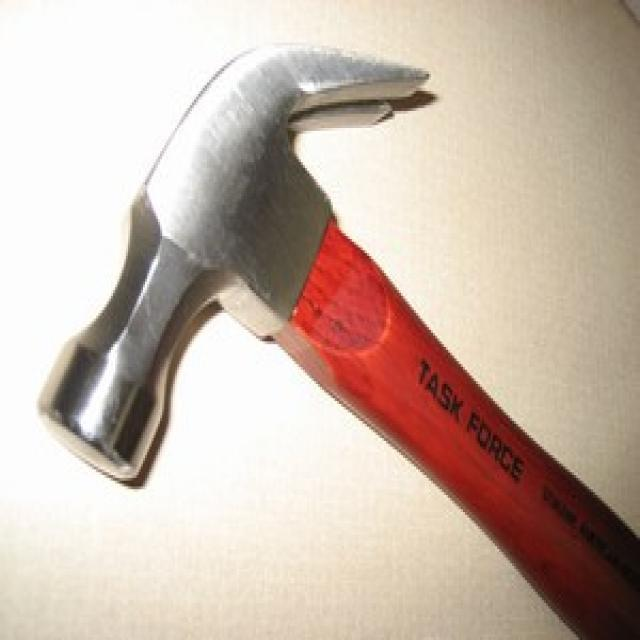hammer: (30, 28, 640, 640)
